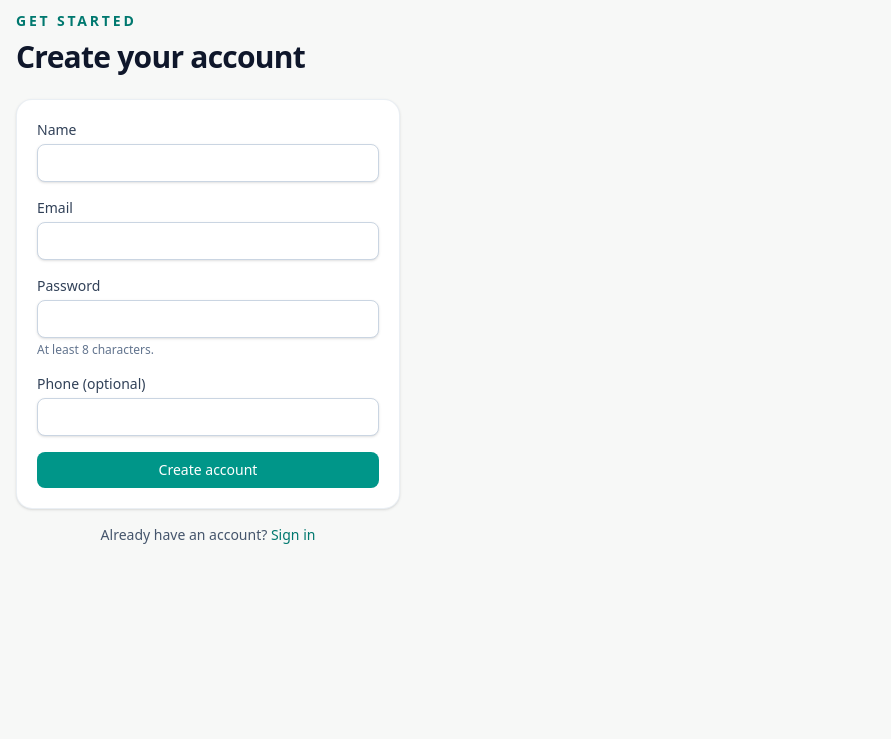
Test: RegisterPage › creates the account, welcomes the resident and goes home
This screenshot has width=891, height=739.
Step 1. Type "Rina" into the field labelled "Name" → (208, 163), box [37,144,379,182]
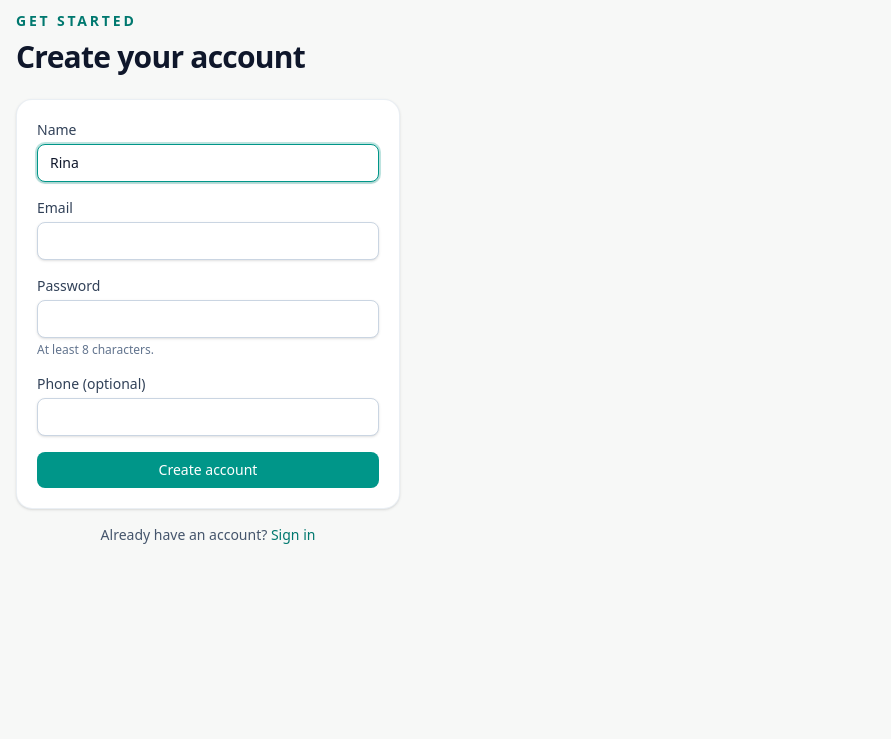
Step 2. Type "rina@e.com" into the field labelled "Email" → (208, 241), box [37,222,379,260]
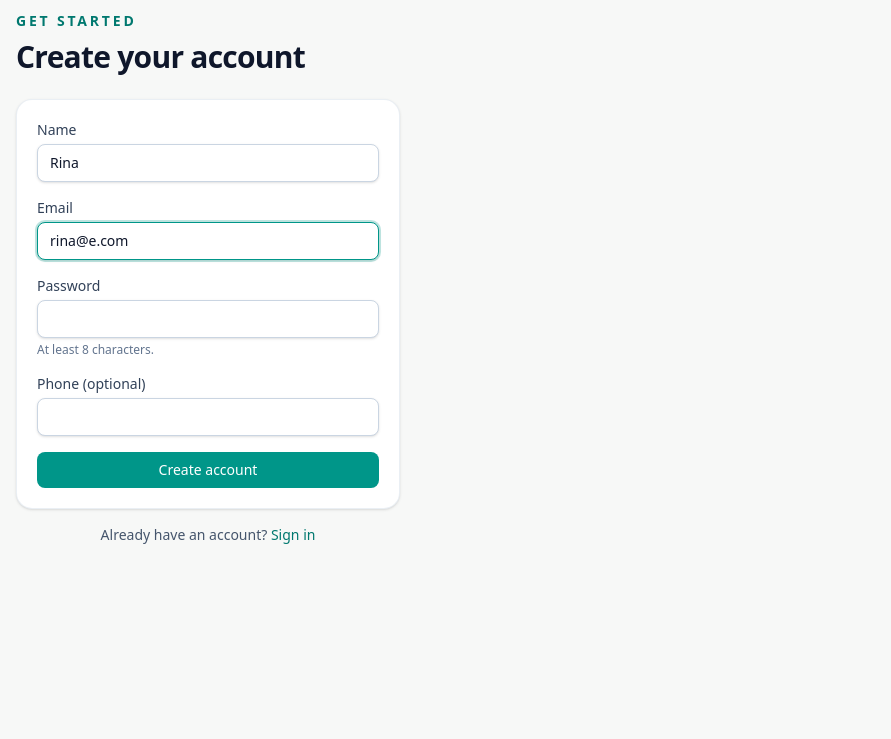
Step 3. Type "CorrectHorse9" into the password field labelled "Password" → (208, 319), box [37,300,379,338]
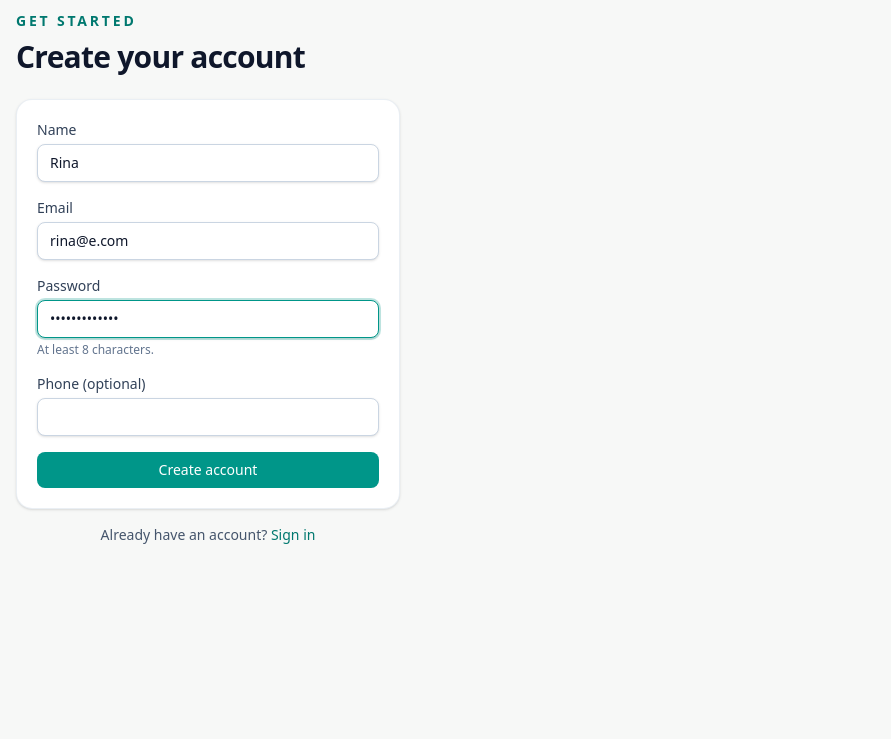
Step 4. Click the button "Create account" → (208, 470), box [37,452,379,488]
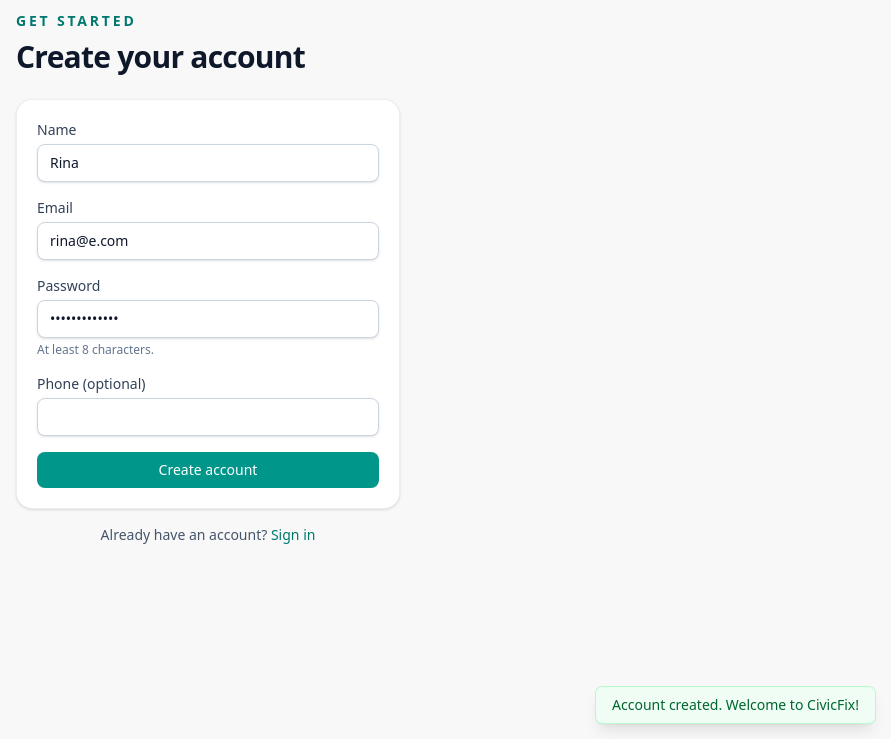
Result: the text "Account created. Welcome to CivicFix!" is shown at [596,687,875,723]
